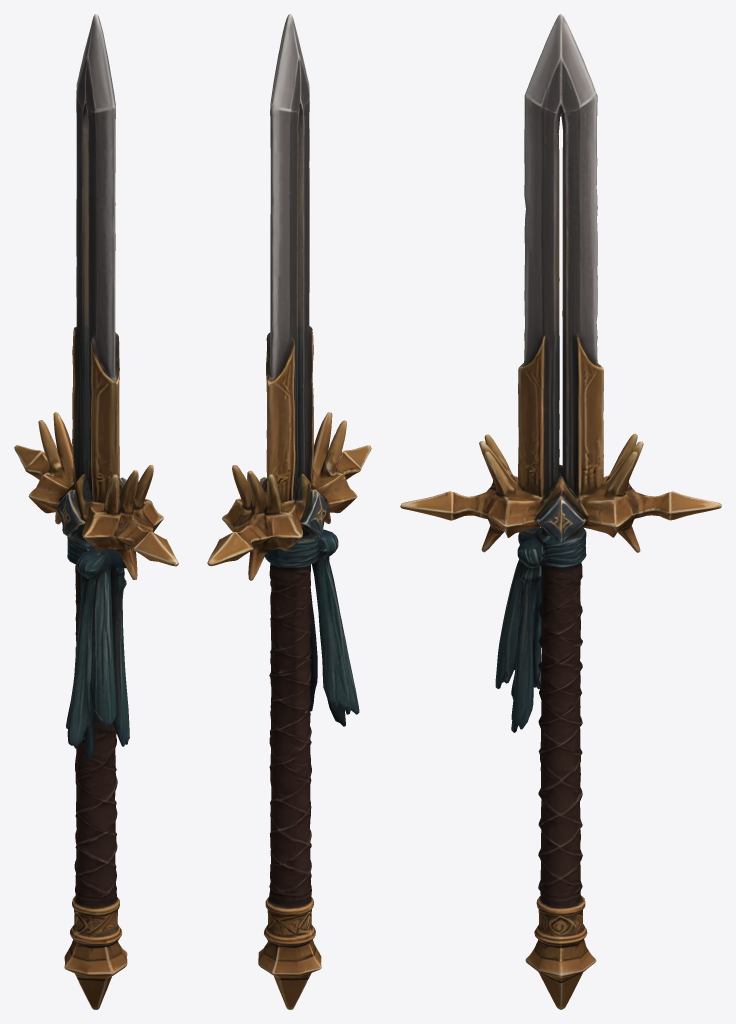
File: look-weapon2-t2-tripo.glb
The picture shows the model from 3 angles, left to right: view 1: azimuth 30°, elevation 25°; view 2: azimuth 150°, elevation 25°; view 3: azimuth 270°, elevation 25°; orthographic projection.
Visible parts, largest first — view 1: tripo_node_06eba632-e91e-4fbf-ab2a-2a283566c51c; view 2: tripo_node_06eba632-e91e-4fbf-ab2a-2a283566c51c; view 3: tripo_node_06eba632-e91e-4fbf-ab2a-2a283566c51c.
Part boxes in pixels (x1=…): tripo_node_06eba632-e91e-4fbf-ab2a-2a283566c51c: x1=14, y1=14, x2=178, y2=1009; tripo_node_06eba632-e91e-4fbf-ab2a-2a283566c51c: x1=207, y1=14, x2=371, y2=1009; tripo_node_06eba632-e91e-4fbf-ab2a-2a283566c51c: x1=400, y1=14, x2=721, y2=1009.
Bounding box in the file's own units: 0.0929 × 1 × 0.2927.
1 material, 1 textured.
